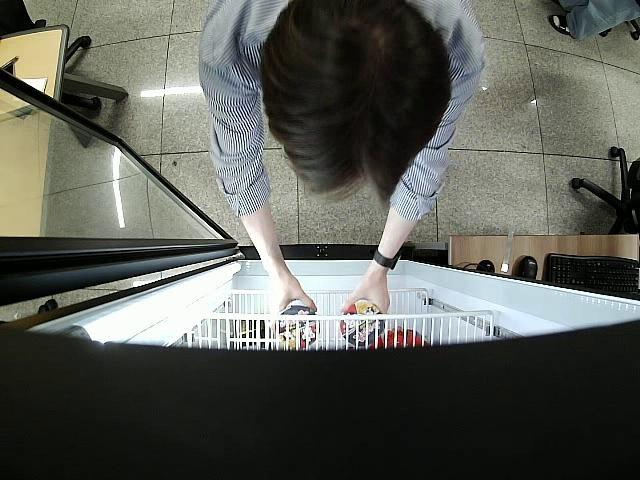08_buldak_S: (338, 302, 384, 346), (278, 308, 318, 347)
